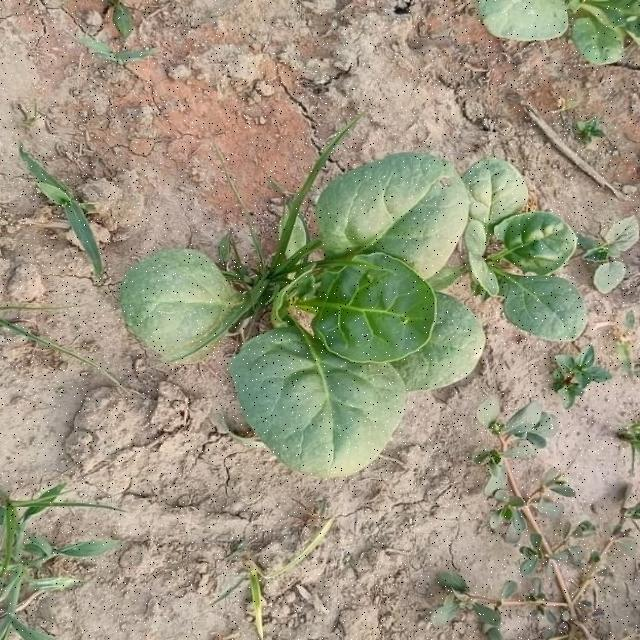plant: (121, 132, 586, 477), (479, 0, 640, 62)
